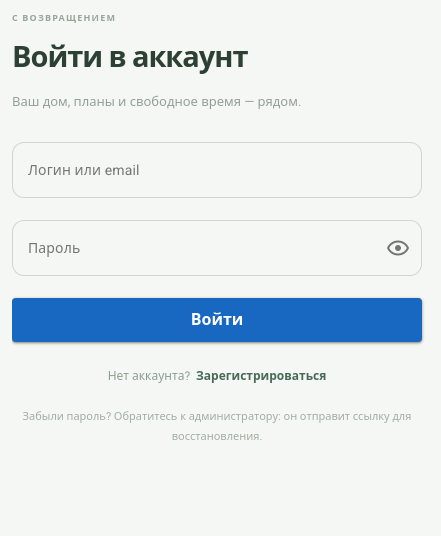
login form › shows a rejected login without navigating
The width and height of the screenshot is (441, 536).
Type "alice" into the field labelled "Логин или email" at (217, 170), box [12,142,422,198]
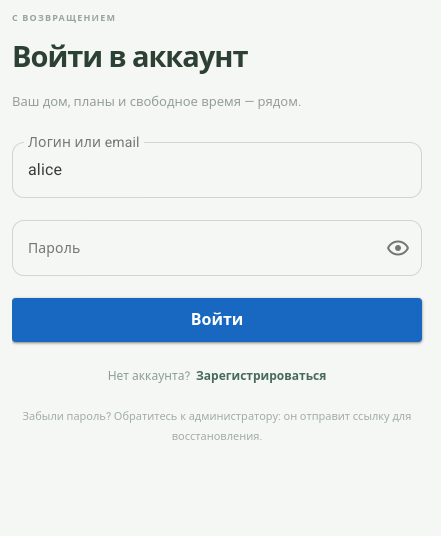
Type "a-valid-password" into the password field labelled "Пароль" at (199, 248), box [12,220,386,276]
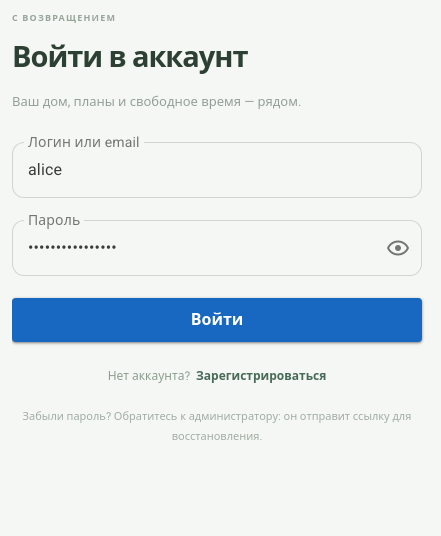
Submit the form, box [12,142,422,342]
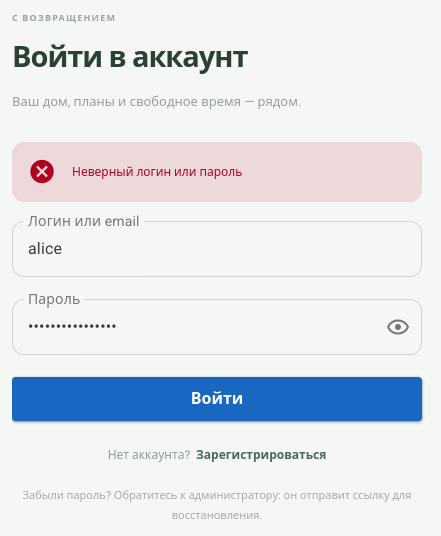
Result: the text "Неверный логин или пароль" is shown at [72,165,242,179]
